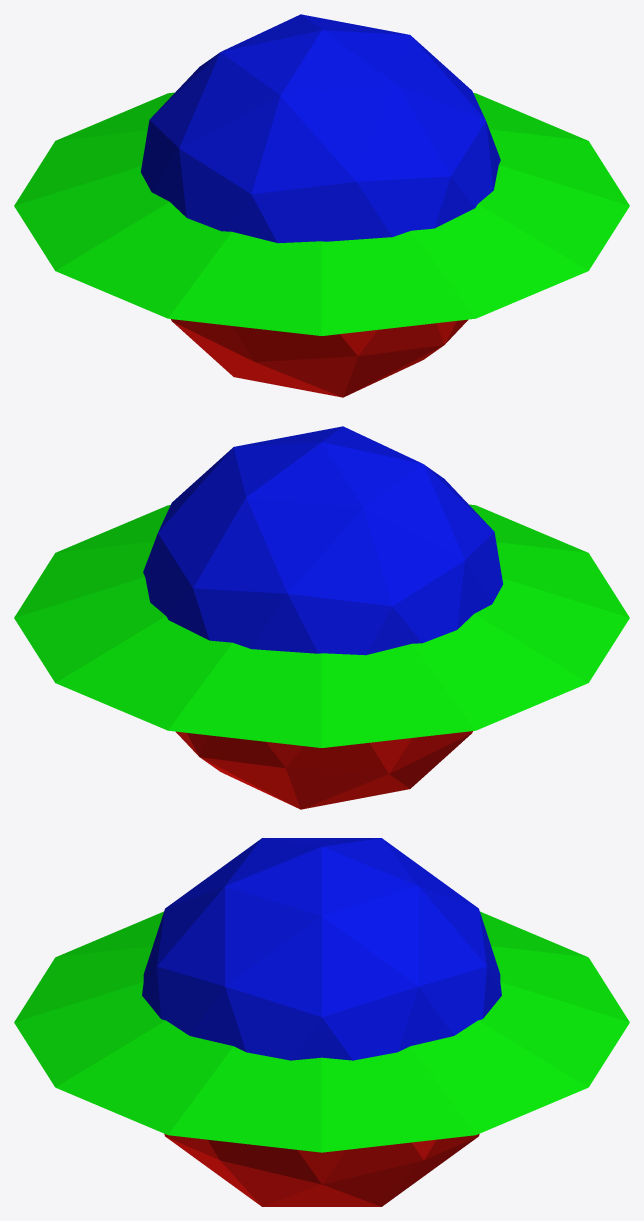
File: ovni.fbx
3 renders of one model, top to bottom at view 1: azimuth 30°, elevation 25°; view 2: azimuth 150°, elevation 25°; view 3: azimuth 270°, elevation 25°, orthographic.
Parts seen in each view (by area): view 1: Icosphere, Torus.001; view 2: Icosphere, Torus.001; view 3: Icosphere, Torus.001.
Boxes of the visible parts, x1,y1,x2,y2 form: Icosphere: (141, 14, 500, 397); Torus.001: (14, 92, 629, 335); Icosphere: (143, 426, 502, 809); Torus.001: (14, 504, 629, 747); Icosphere: (142, 838, 501, 1206); Torus.001: (14, 911, 629, 1152).
Size of the model in its own units: 430 by 271 by 430.
